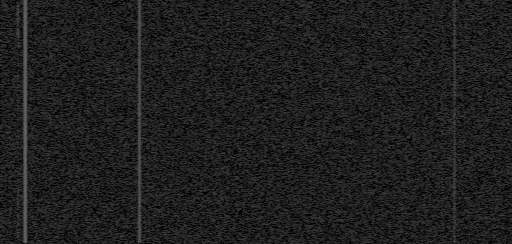wv_cw: (22, 0, 28, 243), (137, 0, 142, 243), (452, 0, 457, 243)
wv_lsb: (16, 149, 21, 239), (15, 4, 21, 72), (440, 78, 444, 117), (440, 6, 444, 38), (440, 219, 444, 243), (16, 92, 20, 115), (16, 128, 20, 148), (440, 47, 444, 65), (16, 73, 20, 91), (440, 165, 444, 180), (29, 105, 33, 119), (29, 91, 33, 104), (440, 152, 444, 164), (440, 66, 444, 77), (16, 116, 20, 126), (440, 192, 444, 201), (440, 210, 444, 218), (440, 130, 444, 138), (440, 143, 444, 151), (440, 118, 444, 125), (440, 39, 444, 46), (440, 202, 444, 209), (440, 186, 444, 191), (29, 121, 33, 125), (440, 181, 444, 185), (440, 126, 444, 129), (16, 240, 20, 243), (440, 139, 444, 142)
